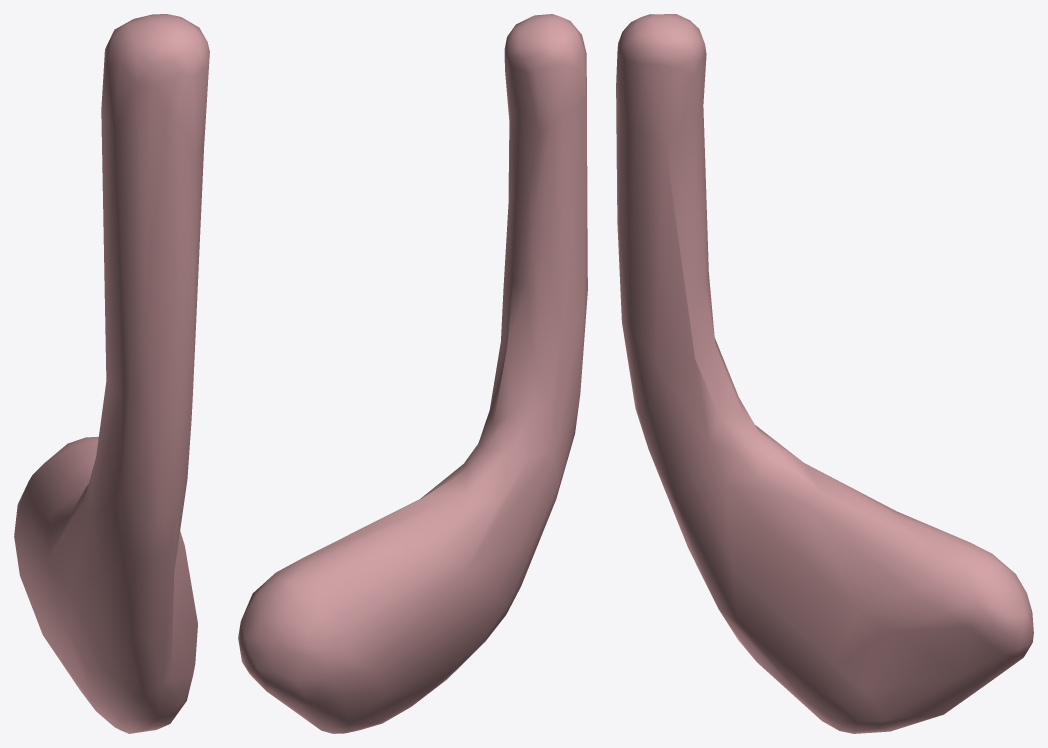
Rendered from fma59555_fj1353.glb.
The picture shows the model from 3 angles, left to right: view 1: azimuth 30°, elevation 25°; view 2: azimuth 150°, elevation 25°; view 3: azimuth 270°, elevation 25°; orthographic projection. The views are drawn at different scales.
Parts seen in each view (by area): view 1: FMA59555_FJ1353; view 2: FMA59555_FJ1353; view 3: FMA59555_FJ1353.
Boxes of the visible parts, x1,y1,x2,y2 form: FMA59555_FJ1353: (14, 14, 209, 733); FMA59555_FJ1353: (238, 14, 587, 733); FMA59555_FJ1353: (616, 14, 1033, 733).
Bounding box in the file's own units: 0.00493 × 0.017 × 0.00956.
